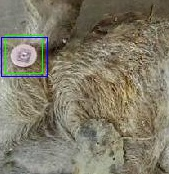text: (5, 35, 42, 73)
